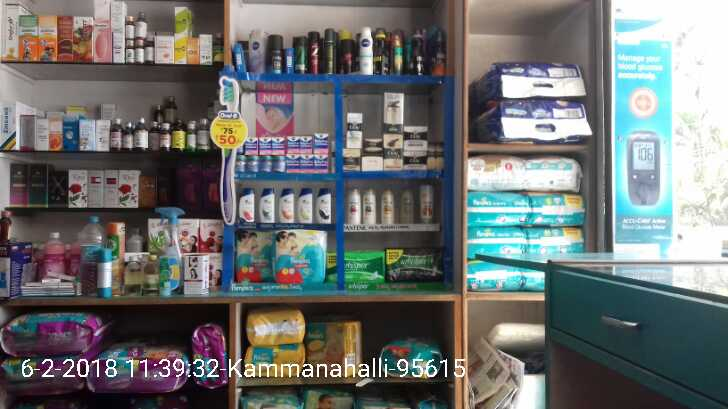beauty: (384, 91, 404, 136), (403, 123, 432, 151), (418, 183, 437, 225), (382, 132, 401, 171), (255, 187, 274, 223), (397, 187, 414, 226), (239, 186, 256, 224), (346, 111, 362, 147), (295, 188, 311, 224), (340, 147, 362, 173), (381, 187, 396, 224), (279, 187, 293, 226), (317, 188, 332, 224), (363, 186, 377, 224), (403, 149, 426, 170), (362, 152, 385, 173), (349, 185, 361, 225), (366, 137, 383, 156), (430, 141, 436, 169), (437, 142, 443, 169)
pharmacy: (470, 60, 583, 107), (91, 335, 181, 392), (475, 105, 591, 146), (3, 312, 107, 354), (5, 357, 86, 398), (308, 316, 360, 379), (272, 230, 325, 284), (524, 223, 590, 262), (192, 322, 231, 388), (379, 338, 444, 376), (467, 191, 527, 231), (526, 193, 588, 230), (468, 156, 527, 194), (468, 226, 530, 261), (387, 248, 447, 283), (528, 153, 584, 190), (464, 262, 523, 294), (236, 234, 272, 284), (245, 346, 303, 377), (248, 309, 304, 341), (329, 253, 385, 283), (283, 152, 300, 175), (314, 152, 329, 175), (284, 135, 301, 154), (314, 133, 329, 154), (300, 154, 314, 175), (257, 137, 271, 157), (245, 154, 258, 175), (257, 155, 272, 173), (270, 137, 284, 155), (272, 156, 285, 173), (244, 139, 258, 153), (300, 136, 312, 152)
